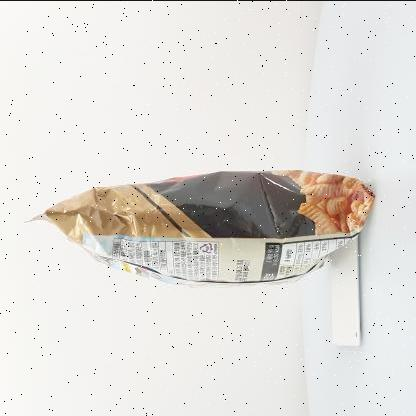Others: (15, 148, 388, 312)
